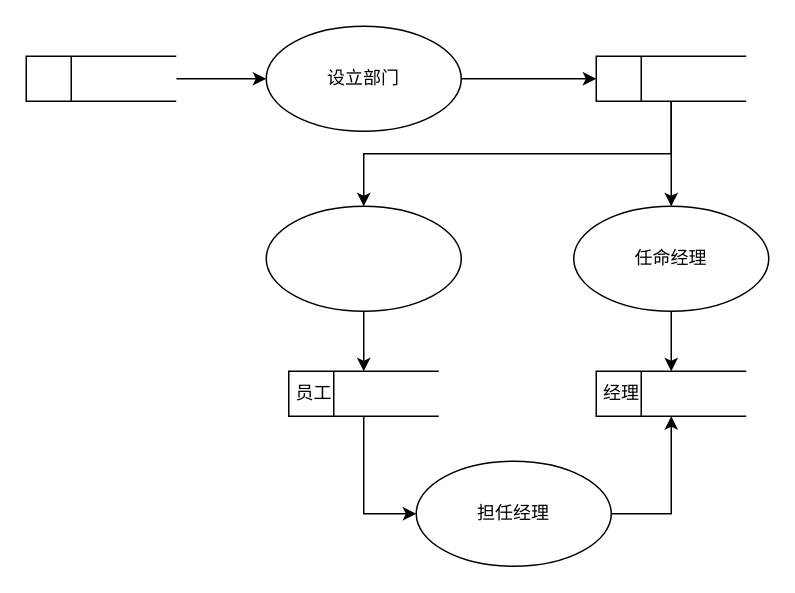
Image size: 795x593. Some labels were removed from this diagram. Here are the shapes that lost their labels. From the top down, the centre of each, then its label:
At point 100,78: "商场".
At point 670,78: "部门".
At point 363,258: "招聘员工".
